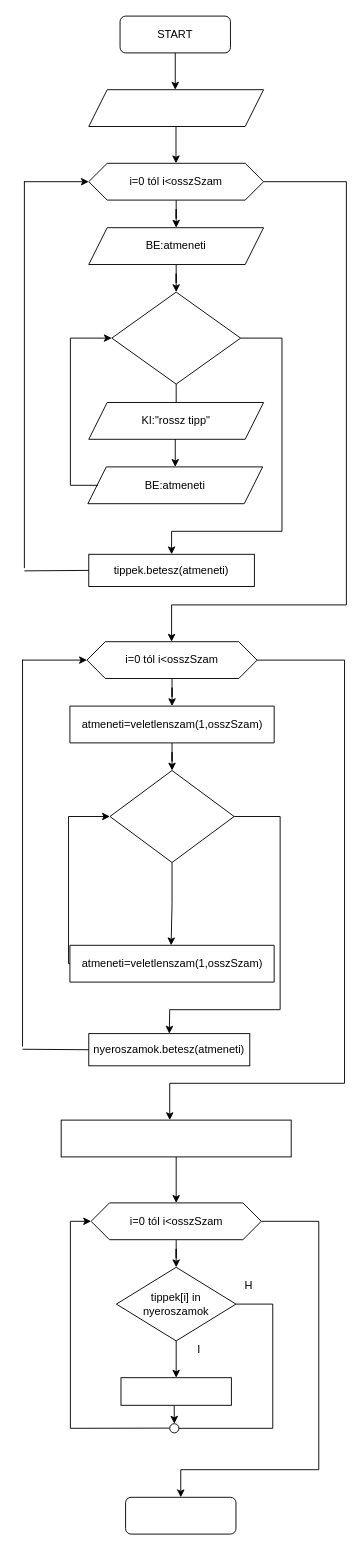
This 363x1550 diagram has some shape labels left out. Each missing label, with the centre of its shape:
atmeneti in nyeroszamok: the point at 171,816
atmeneti<1 or atmeneti>osszSzam or atmeneti in tippek: the point at 176,337
BE:hanySzam,osszSzam: the point at 176,107
STOP: the point at 180,1515
talalat+=1: the point at 175,1391
talalat=0: the point at 175,1138
